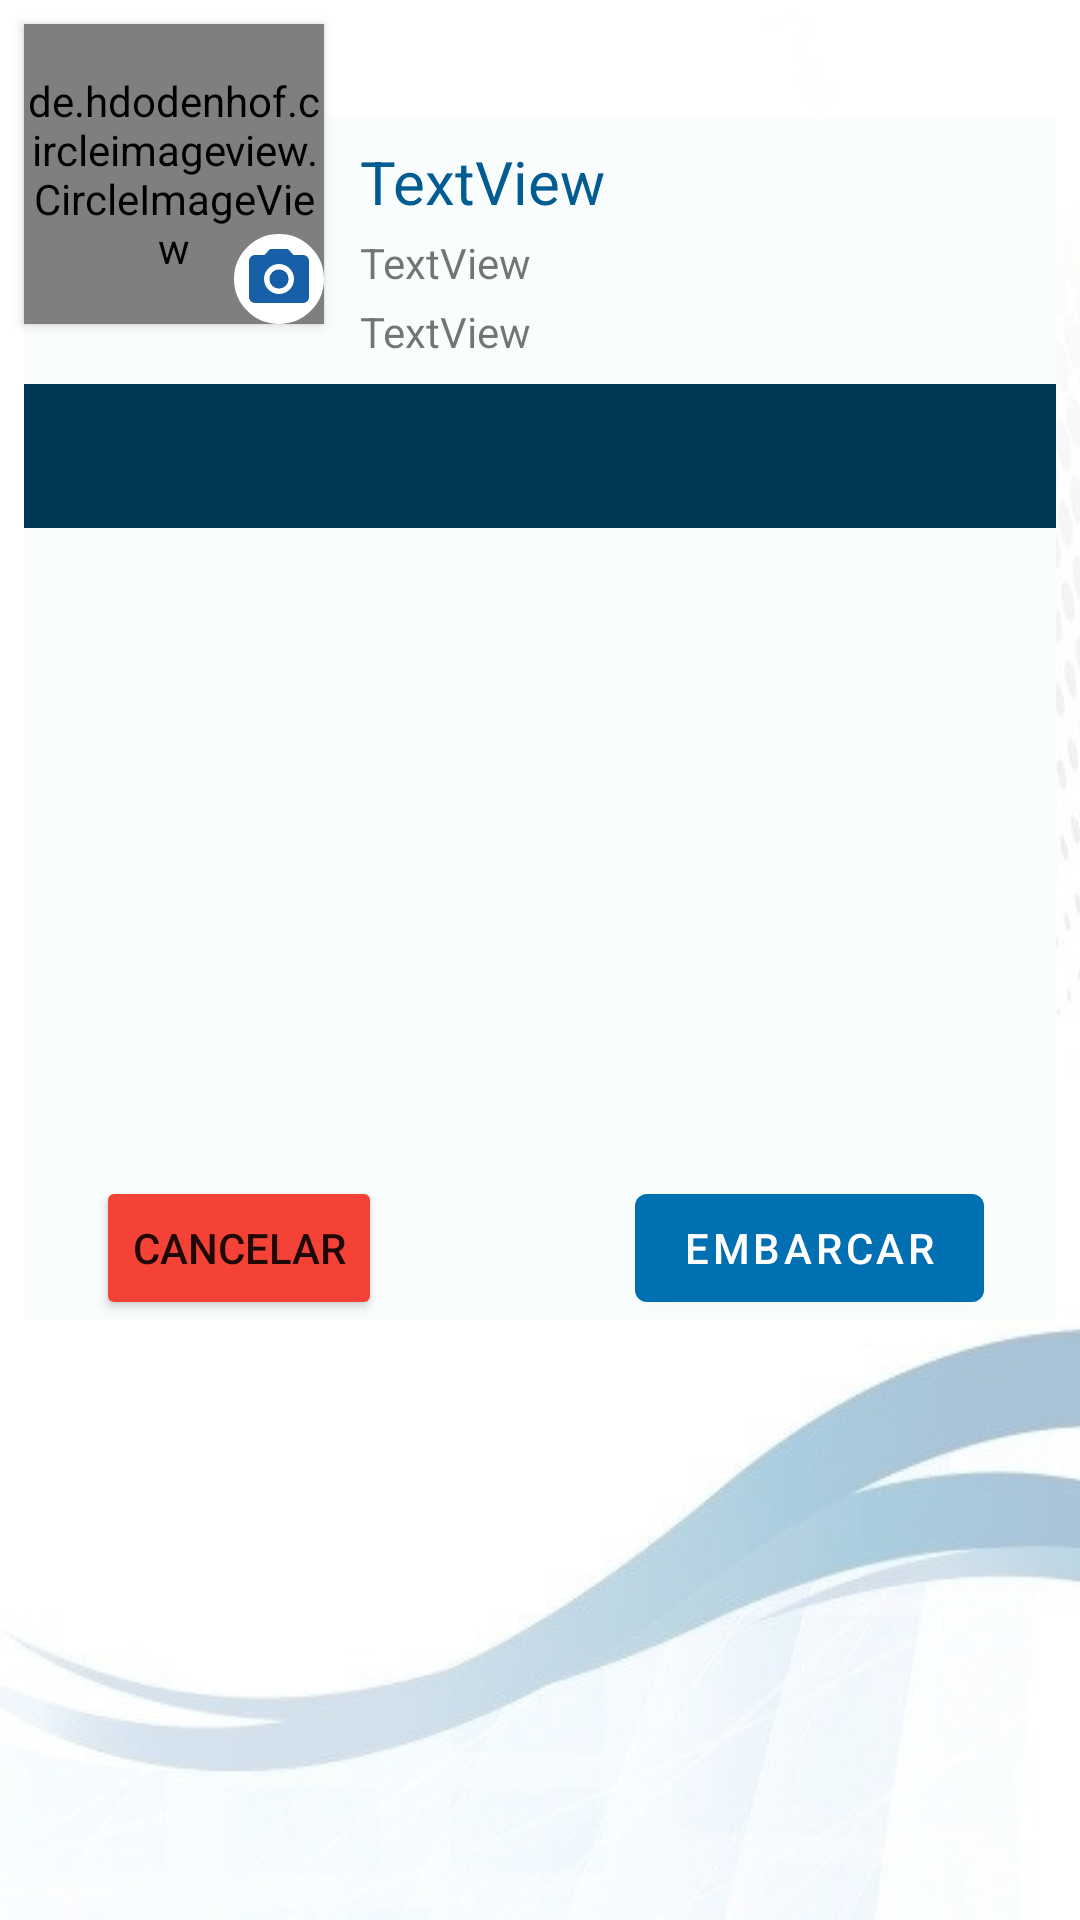

Named icons in this screenshot (1080×1920) and their centers, [x,y]:
camera: [279,279]
